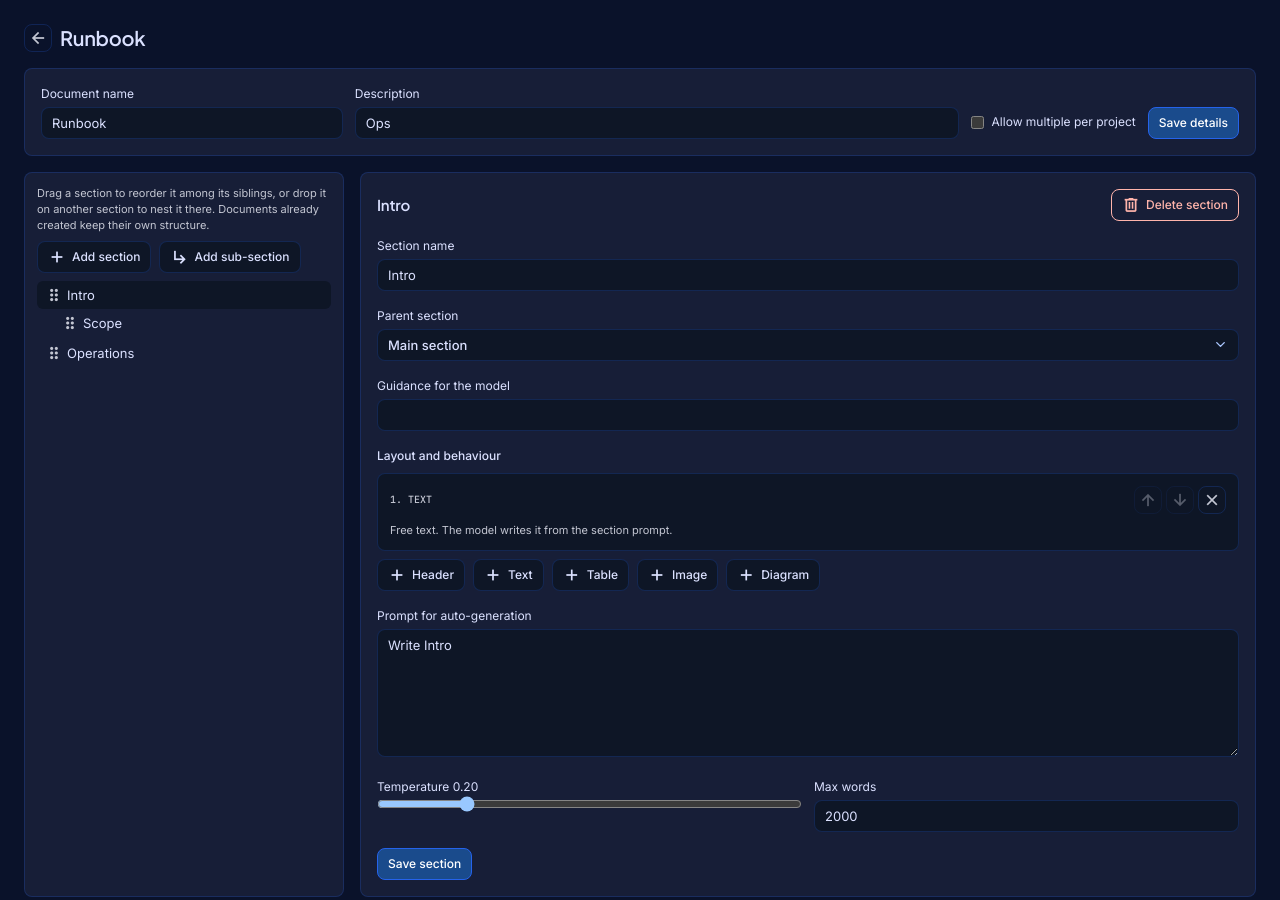
adds a sub-section under the selected section
This screenshot has width=1280, height=900.
Expected: the element named "Sections" is shown, [24,172,344,897]
Click the button "Add sub-section". click: point(230, 257)
box: [160,241,301,273]
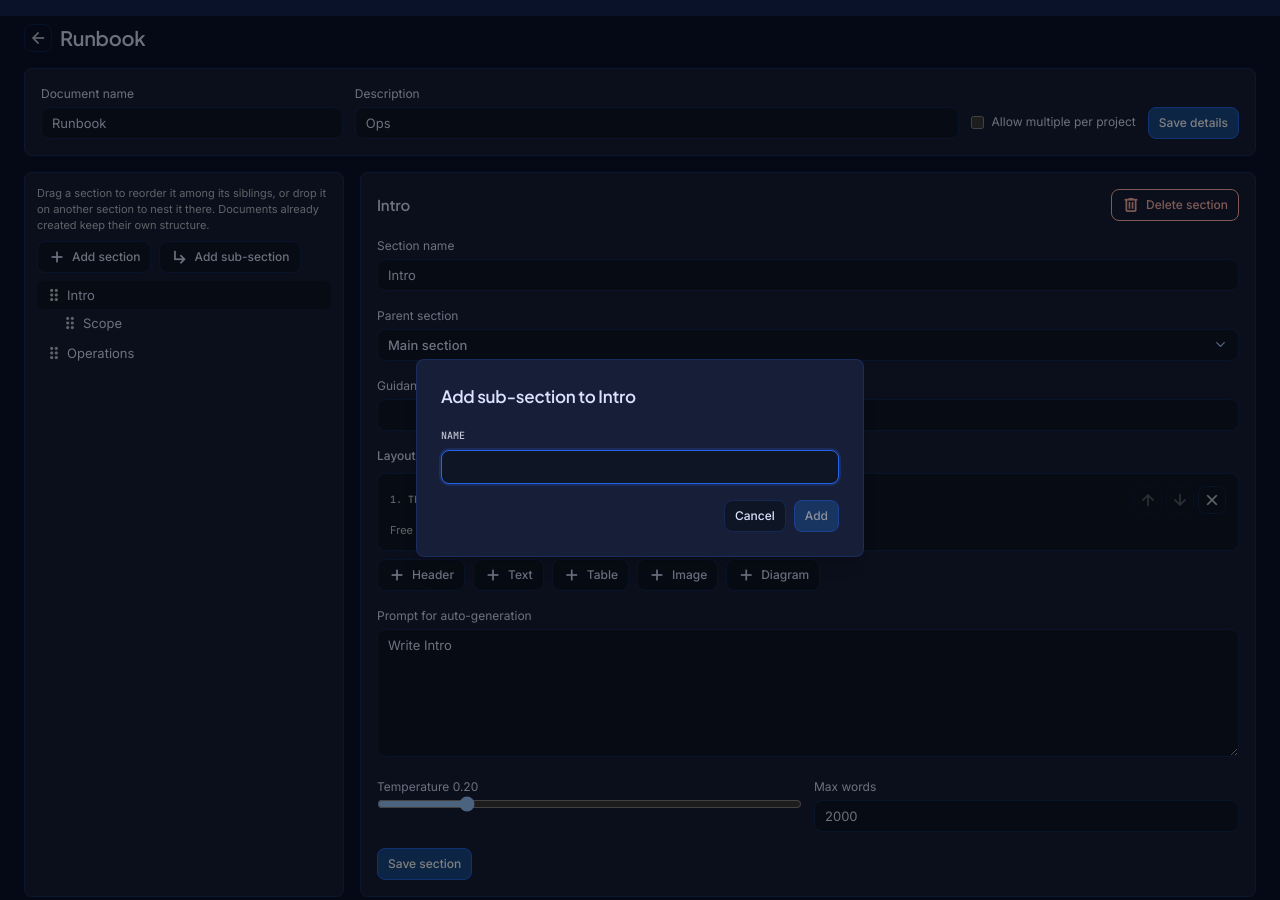
Type "Goals" into the field named "Section name". click: point(640, 467)
box: [441,450,839,484]
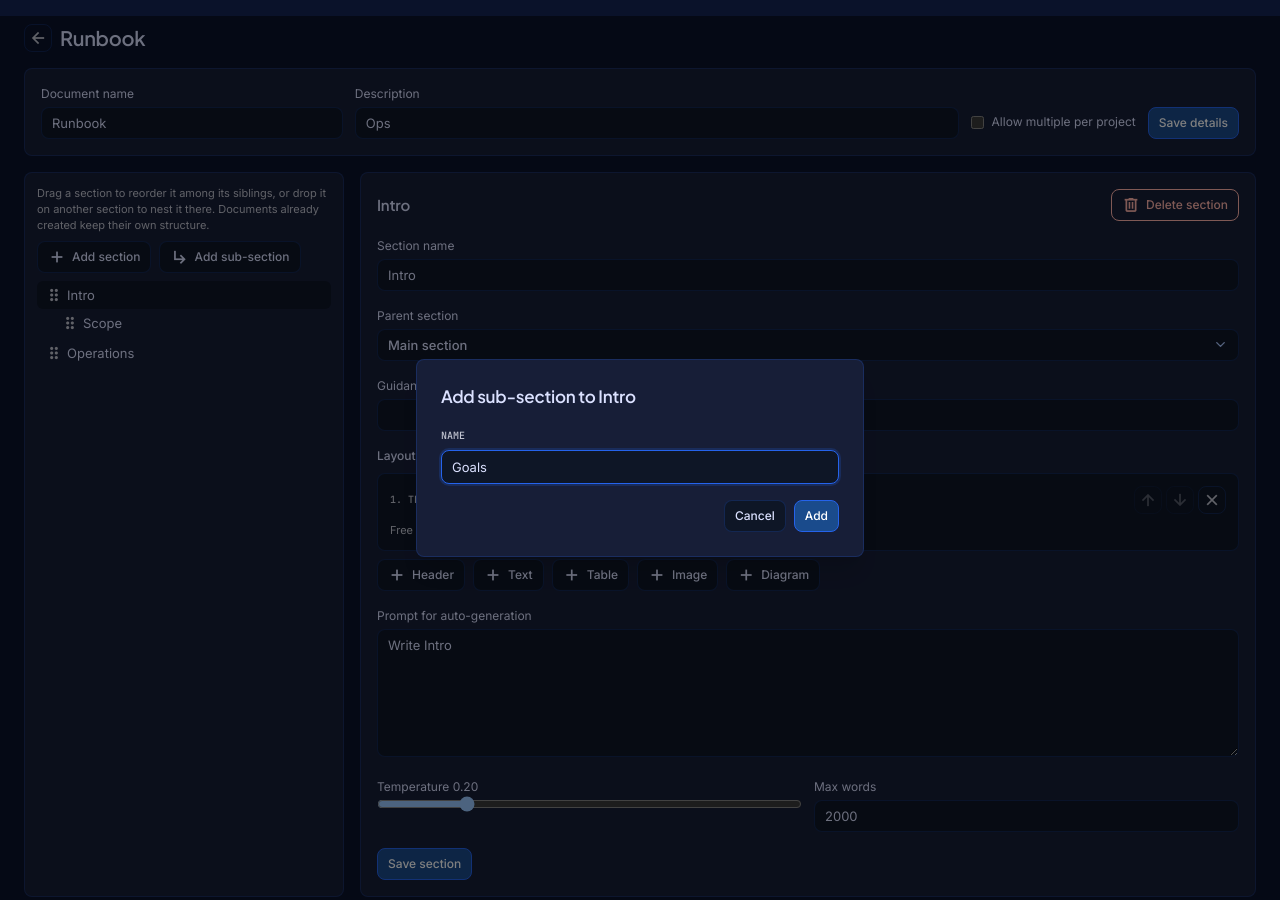
Click the button "Add". click: point(816, 516)
box: [794,500,839,532]
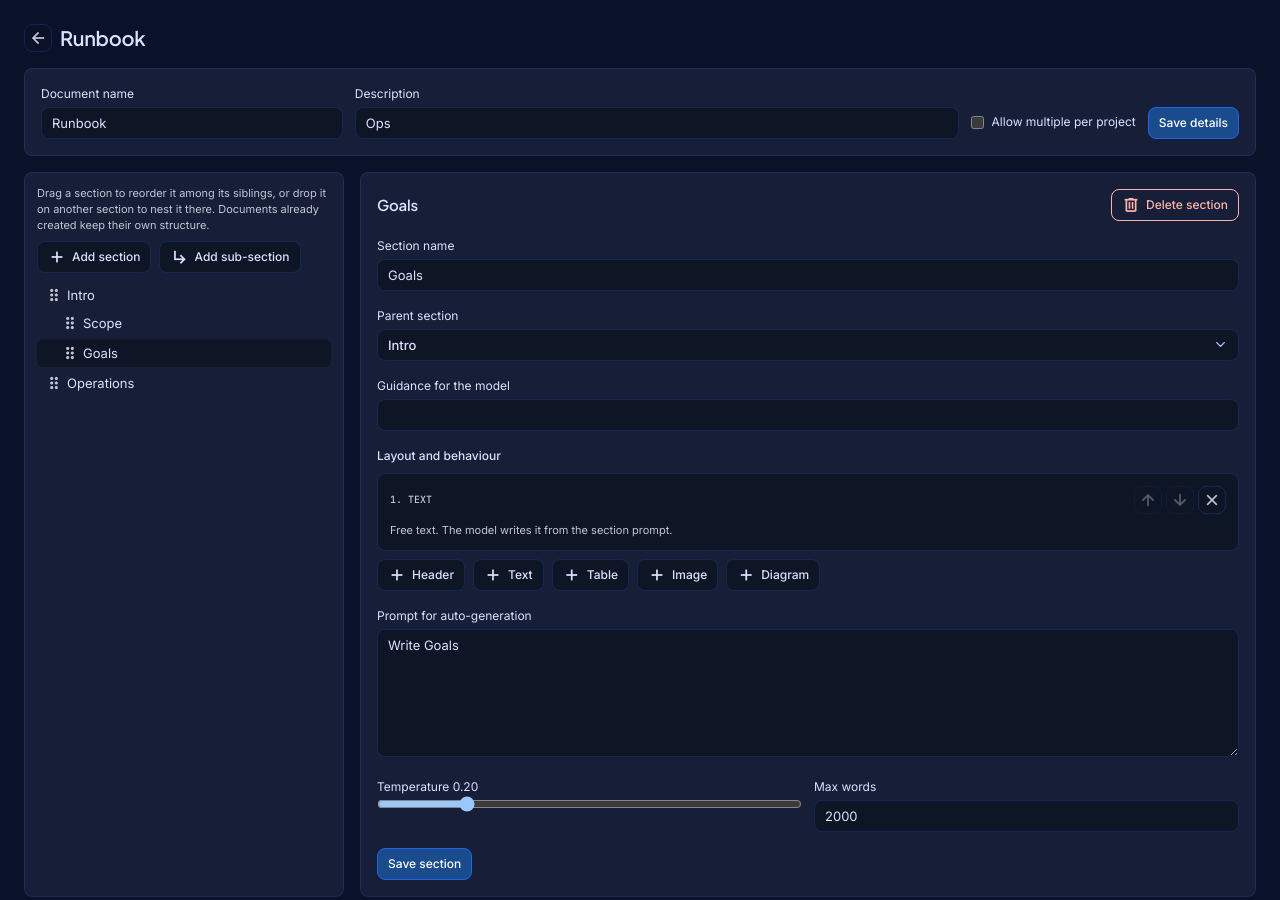
Expected: the button "Goals" is shown, [83,343,323,363]
